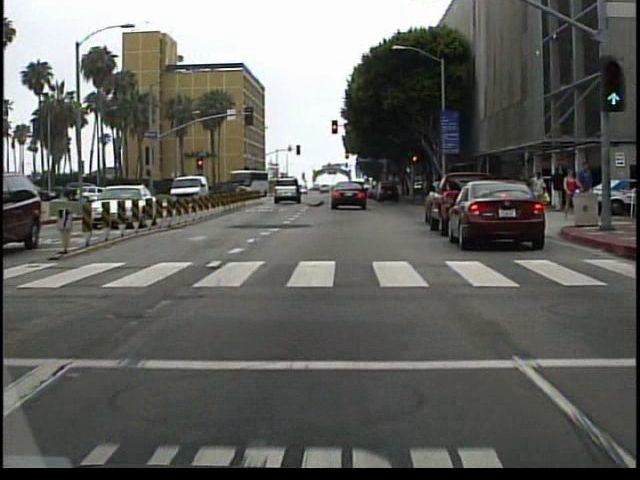person: (574, 162, 594, 223), (560, 166, 579, 223), (547, 165, 566, 216), (529, 170, 548, 216)
